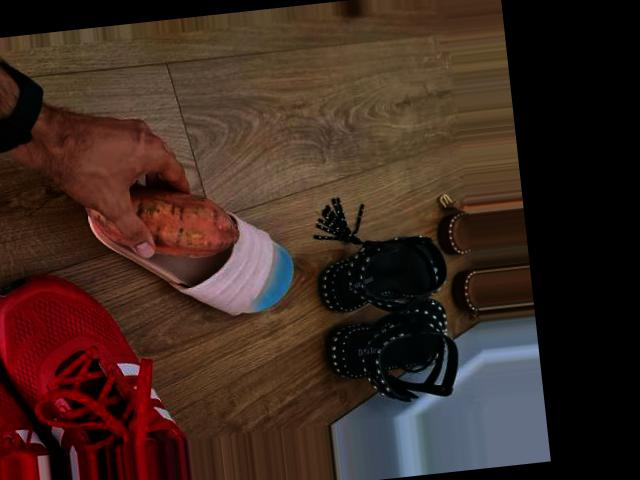sweet_potato: (82, 178, 242, 268)
